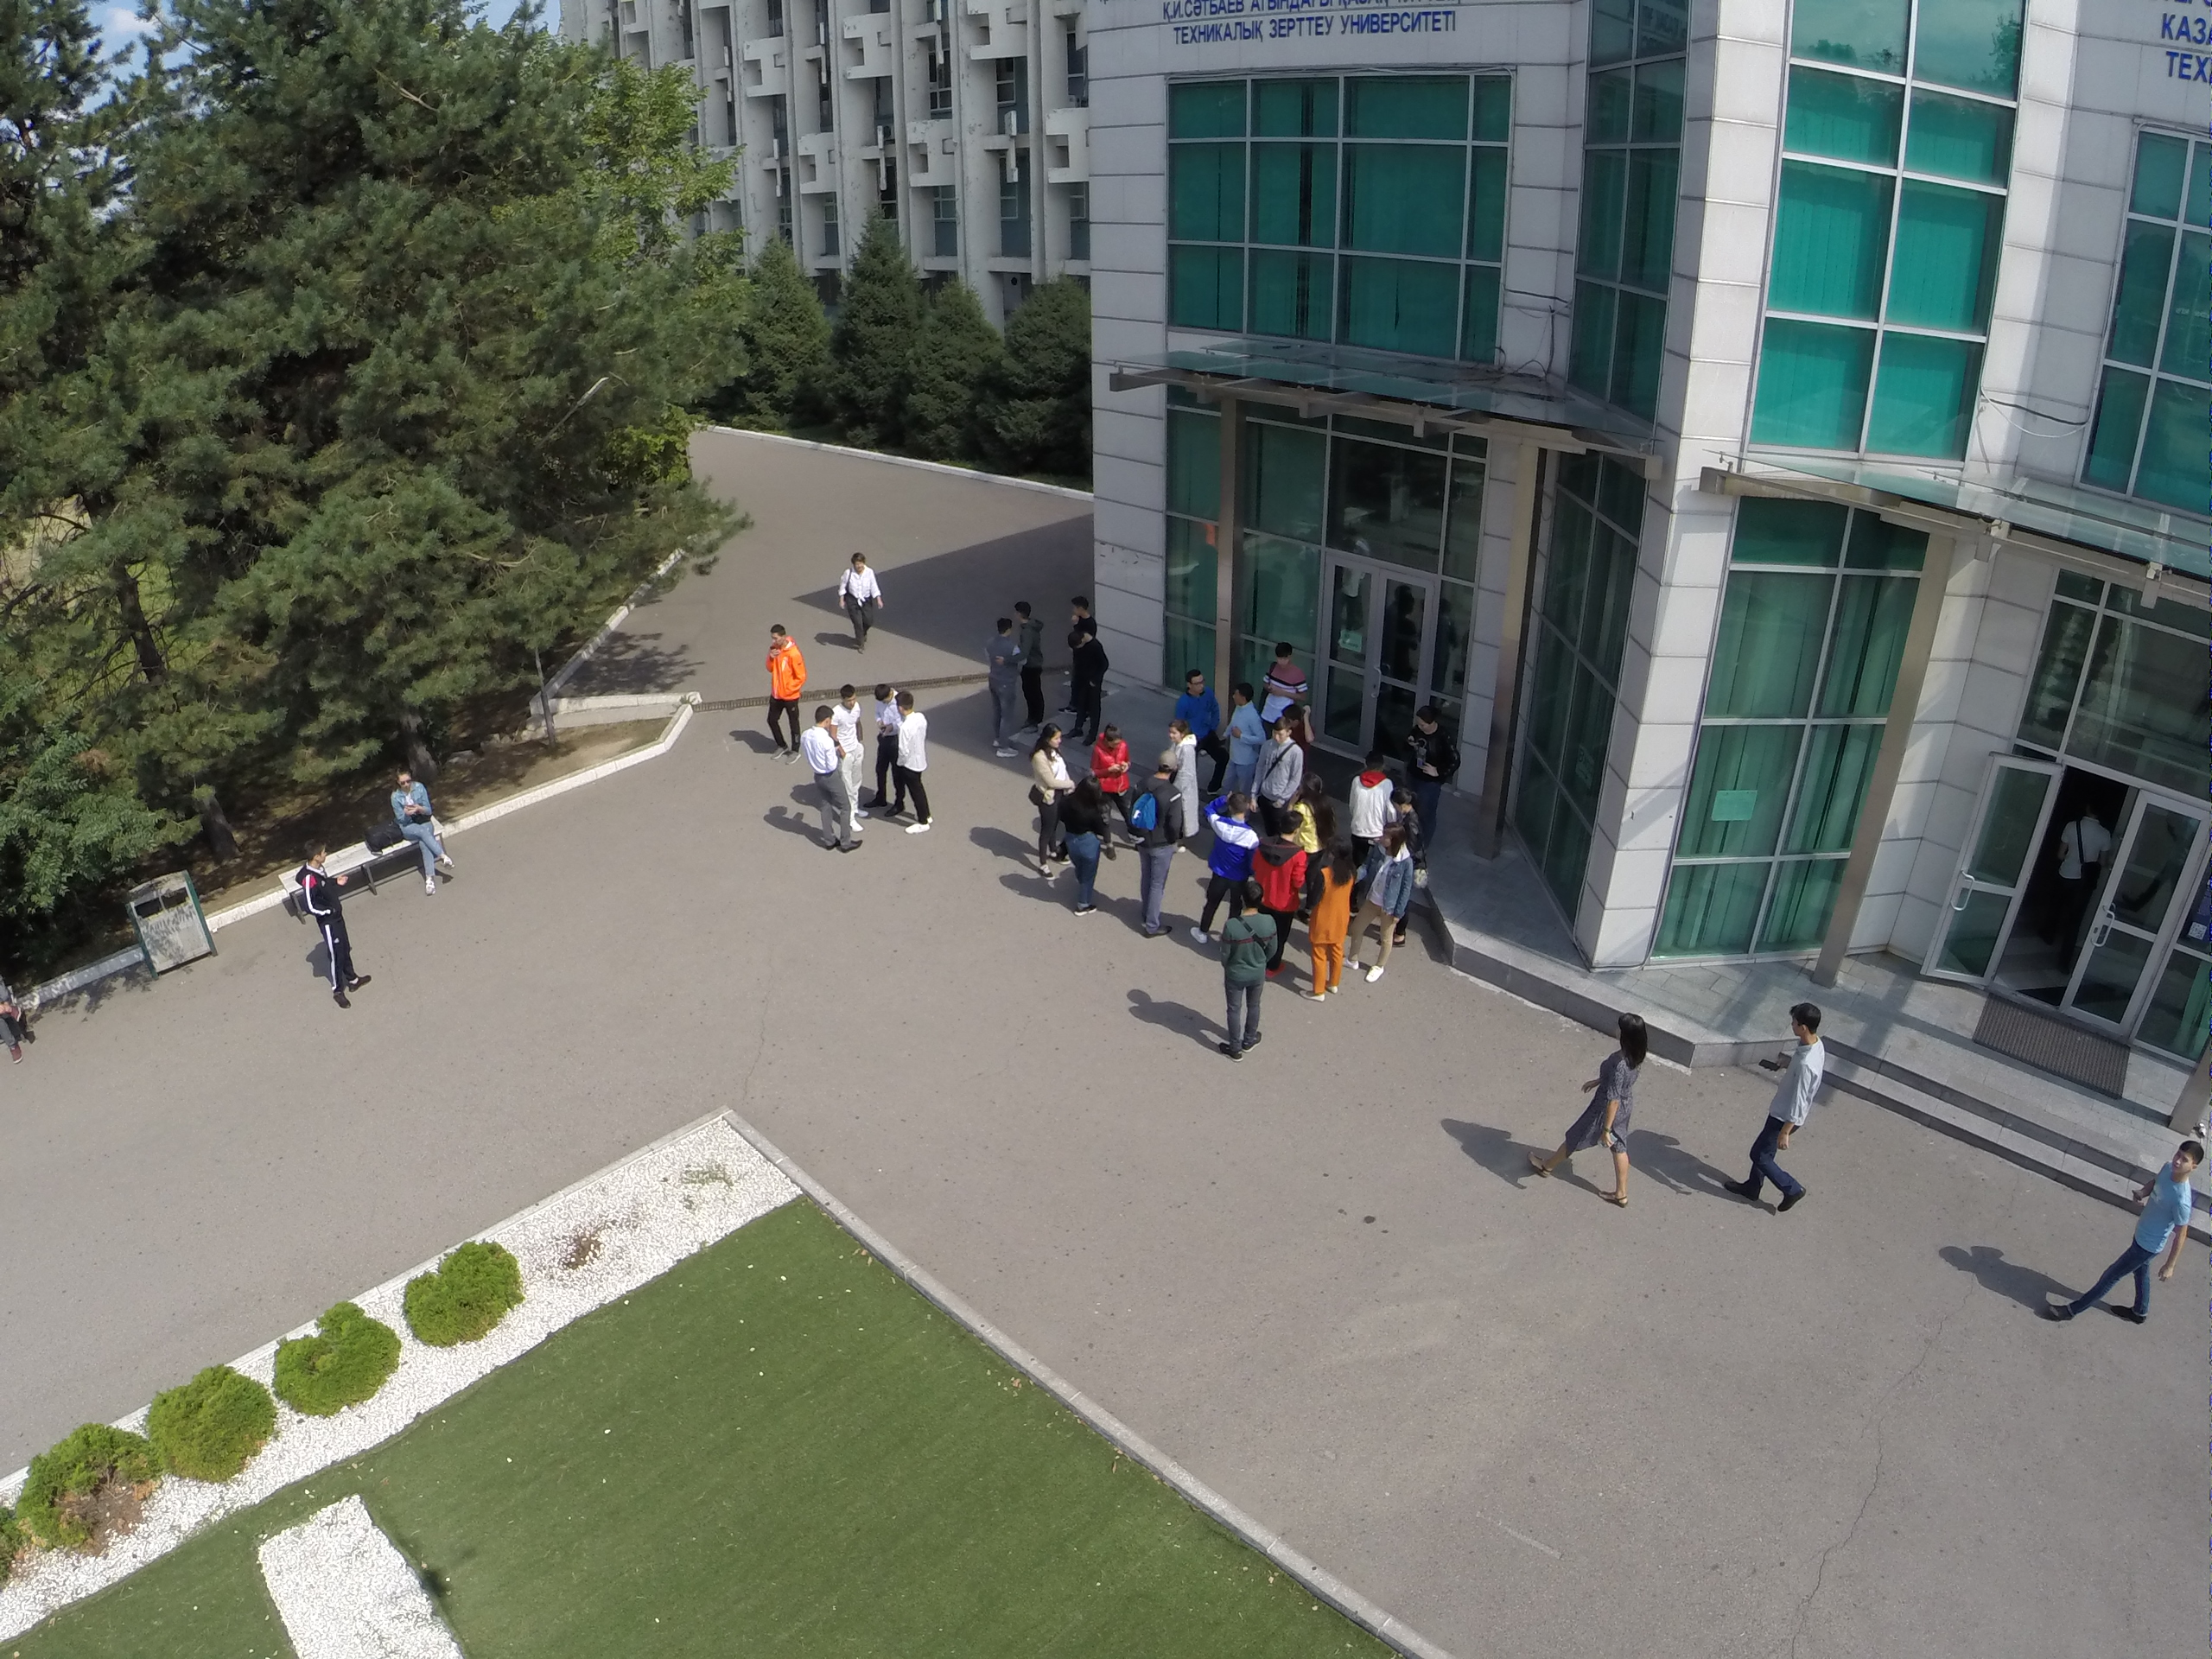person: (2038, 1126, 2210, 1327), (1524, 1000, 1657, 1218), (1711, 995, 1843, 1214), (2035, 791, 2123, 981), (283, 834, 372, 1013), (1193, 801, 1264, 946), (1211, 884, 1267, 1069), (386, 764, 458, 899), (1135, 751, 1184, 950), (802, 705, 857, 856), (1361, 820, 1408, 988), (755, 615, 804, 767), (893, 689, 941, 841), (1027, 721, 1065, 896), (979, 620, 1027, 762), (1160, 719, 1205, 861), (1407, 708, 1452, 854), (1313, 835, 1348, 1004), (1007, 601, 1048, 734), (1066, 772, 1102, 922), (1091, 728, 1135, 855), (839, 547, 884, 659), (1224, 680, 1263, 804), (1268, 810, 1298, 968), (868, 676, 899, 825), (1066, 629, 1102, 748), (1344, 749, 1391, 839), (837, 689, 867, 823), (1287, 771, 1338, 848), (1258, 645, 1306, 714), (1175, 664, 1211, 746)
